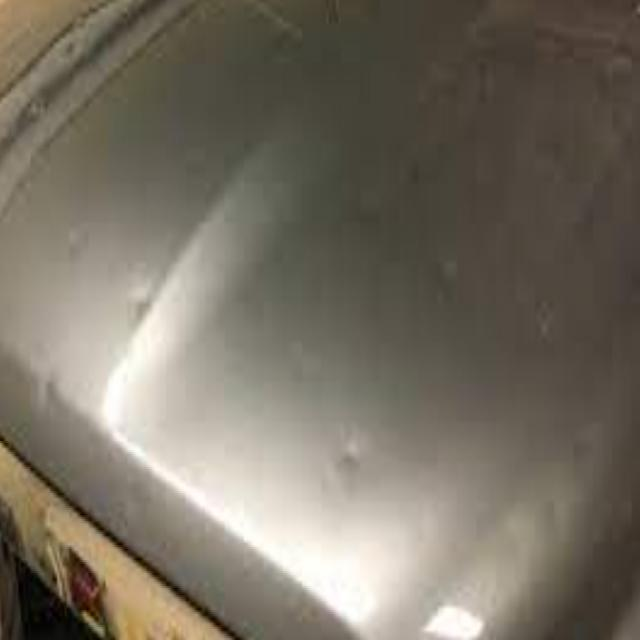dents: (332, 412, 378, 516), (431, 226, 469, 341), (128, 287, 171, 373), (543, 473, 572, 570), (124, 268, 162, 342), (494, 543, 532, 613), (67, 217, 99, 279), (40, 370, 68, 440), (128, 468, 147, 536)
